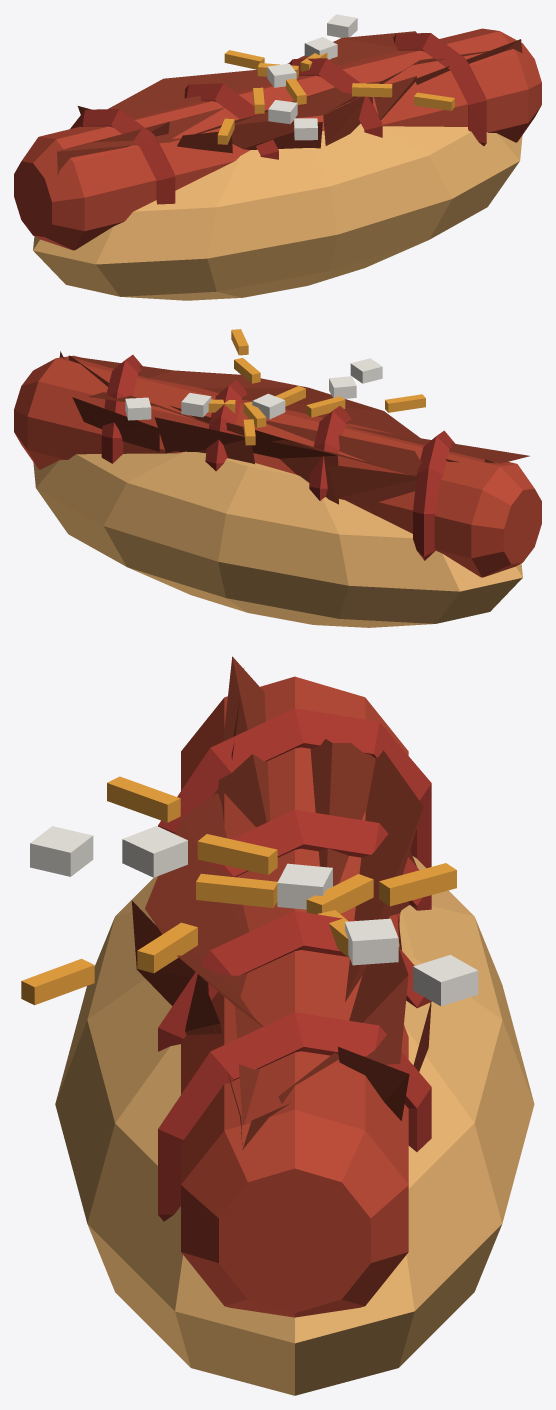
Rendered from food_hotdog.glb.
3 renders of one model, top to bottom at view 1: azimuth 30°, elevation 25°; view 2: azimuth 150°, elevation 25°; view 3: azimuth 270°, elevation 25°, orthographic. The views are drawn at different scales.
Visible parts, largest first — view 1: food_hotdog; view 2: food_hotdog; view 3: food_hotdog.
Part boxes in pixels (<box>): food_hotdog: <box>14,14,541,300</box>; food_hotdog: <box>14,329,541,627</box>; food_hotdog: <box>21,656,534,1395</box>.
Bounding box in the file's own units: 0.17 × 0.068 × 0.0771.
